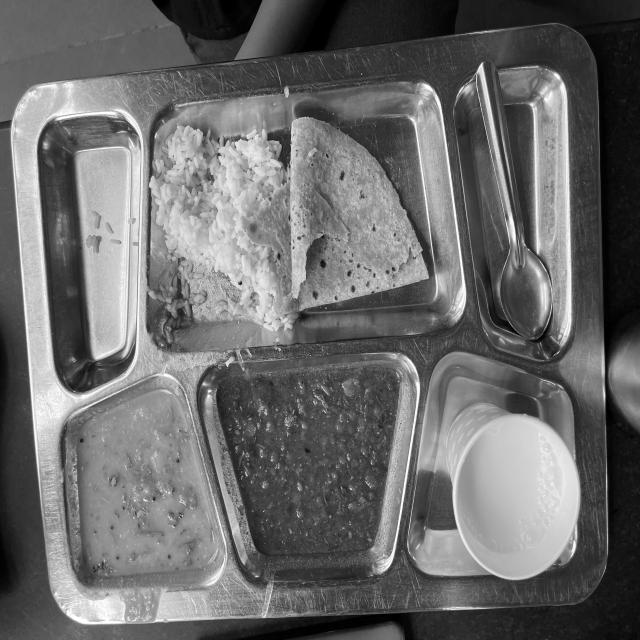Full-Plate: (34, 106, 593, 583)
